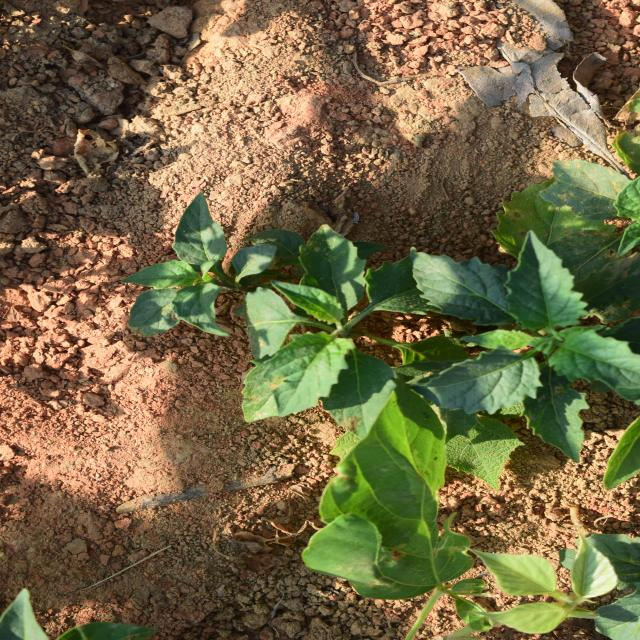Black_nightshade: (215, 231, 416, 441), (202, 421, 410, 617), (306, 131, 450, 285)
